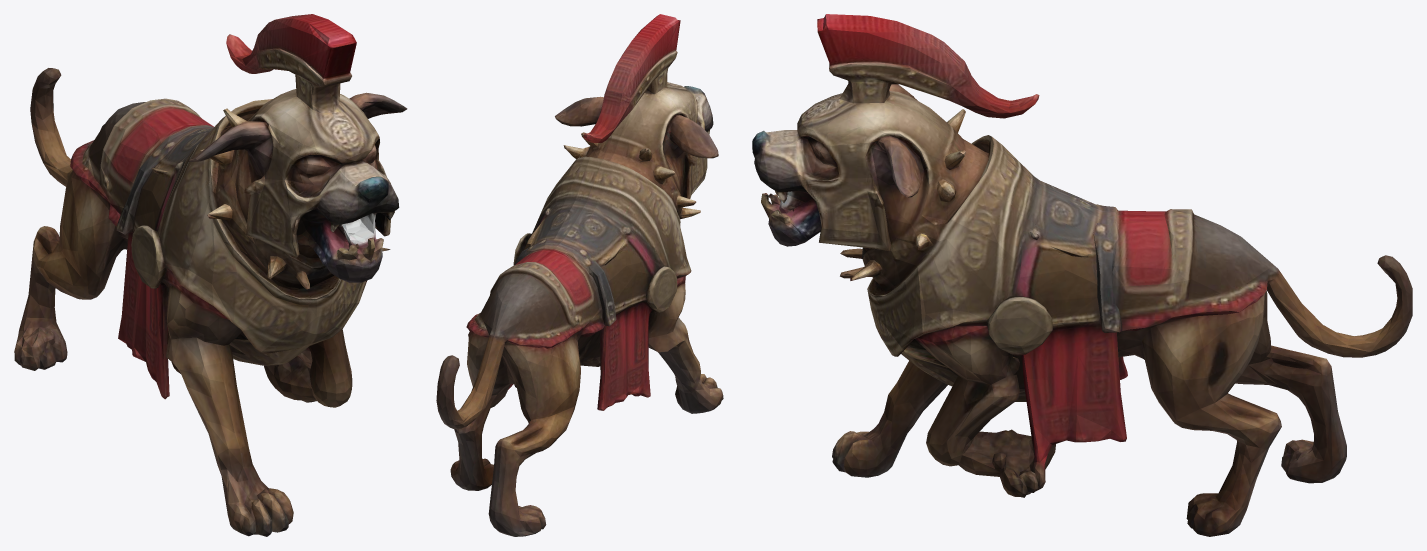
File: houndOfTheCohort.glb
3 views of the same model, side by side, from view 1: azimuth 30°, elevation 25°; view 2: azimuth 150°, elevation 25°; view 3: azimuth 270°, elevation 25° (orthographic). The views are drawn at different scales.
Parts seen in each view (by area): view 1: world; view 2: world; view 3: world.
Part boxes in pixels (x1,y1,x2,y2): world: (14,14,407,536); world: (436,14,723,536); world: (752,14,1412,536).
Bounding box in the file's own units: 0.3723 × 0.8044 × 0.9992.
Materials: 1 (1 with a texture image).
